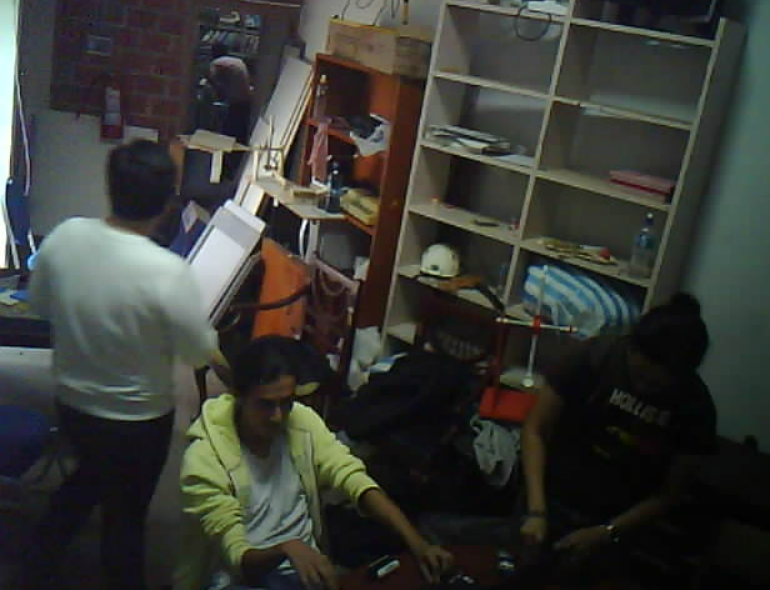person: (16, 118, 242, 590), (160, 321, 464, 590), (505, 274, 729, 590), (186, 13, 279, 148)
